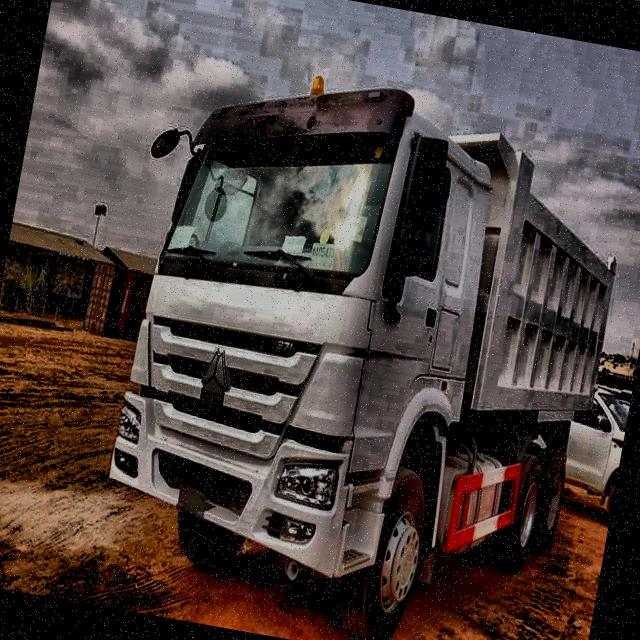dump_truck: (74, 52, 640, 640)
